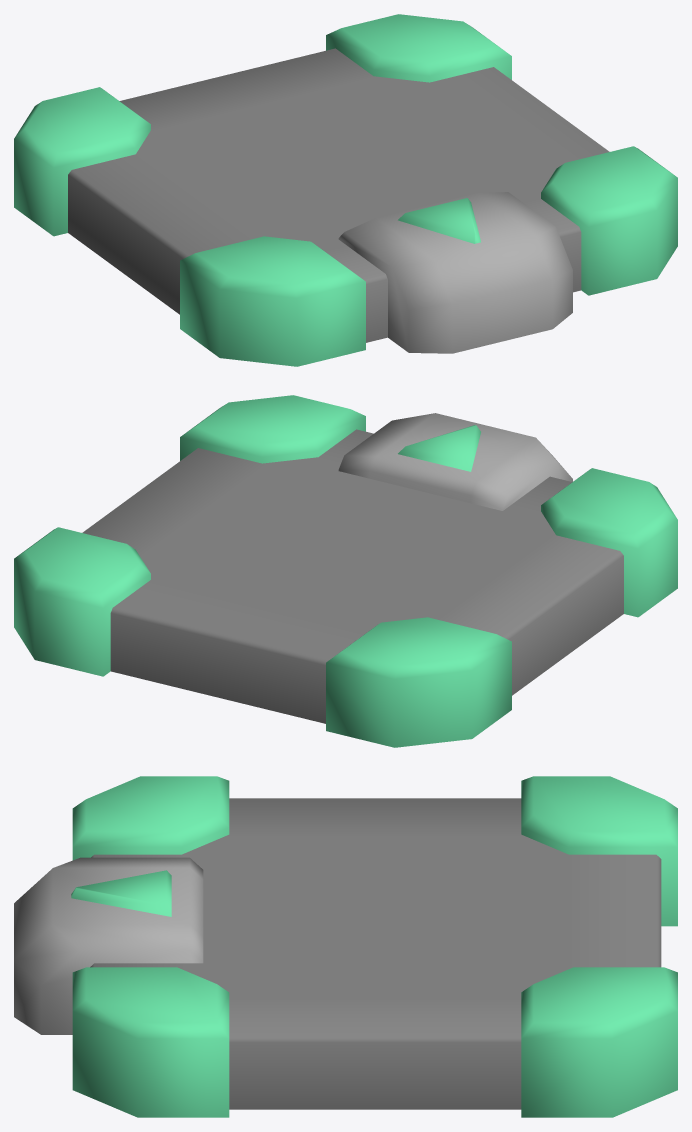
File: EmeraldPieceBasePlate.glb
The picture shows the model from 3 angles, top to bottom: view 1: azimuth 30°, elevation 25°; view 2: azimuth 150°, elevation 25°; view 3: azimuth 270°, elevation 25°; orthographic projection. The views are drawn at different scales.
Parts seen in each view (by area): view 1: Peice Base - Emerald; view 2: Peice Base - Emerald; view 3: Peice Base - Emerald.
Boxes of the visible parts, x1=… form: Peice Base - Emerald: x1=14, y1=14, x2=677, y2=366; Peice Base - Emerald: x1=14, y1=395, x2=677, y2=747; Peice Base - Emerald: x1=14, y1=776, x2=677, y2=1117.
Bounding box in the file's own units: 0.8785 × 0.1605 × 0.9559.
